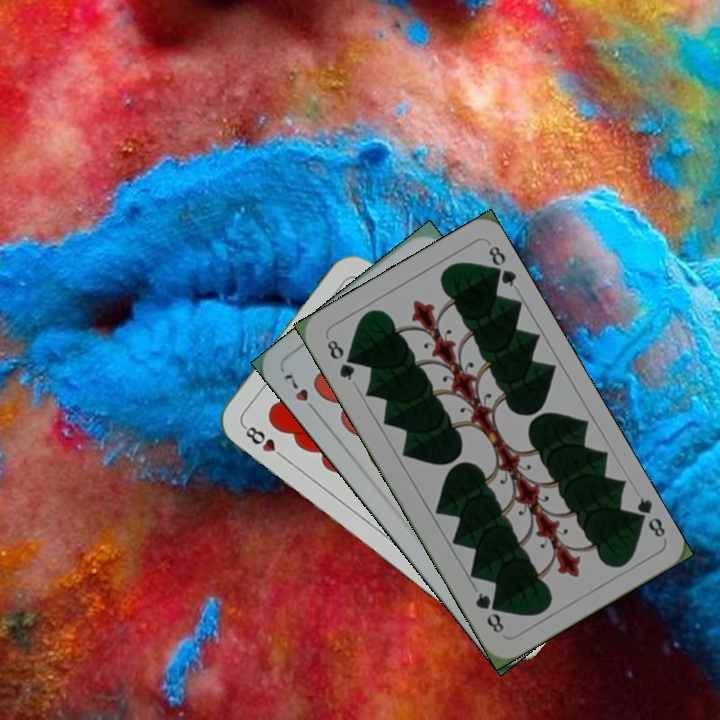G8: (628, 493, 669, 541), (322, 335, 358, 384)
H7: (279, 370, 322, 418)
H8: (239, 421, 289, 462)
